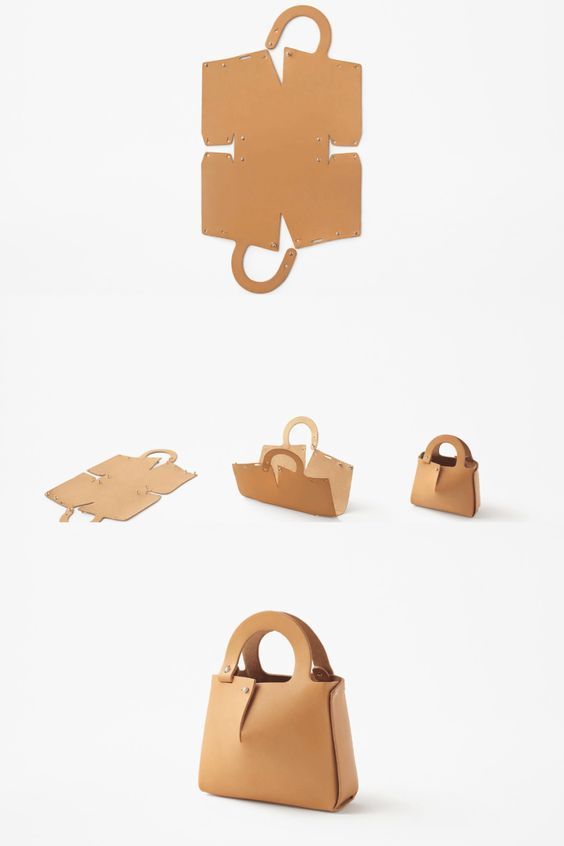cuero: (199, 610, 358, 813)
